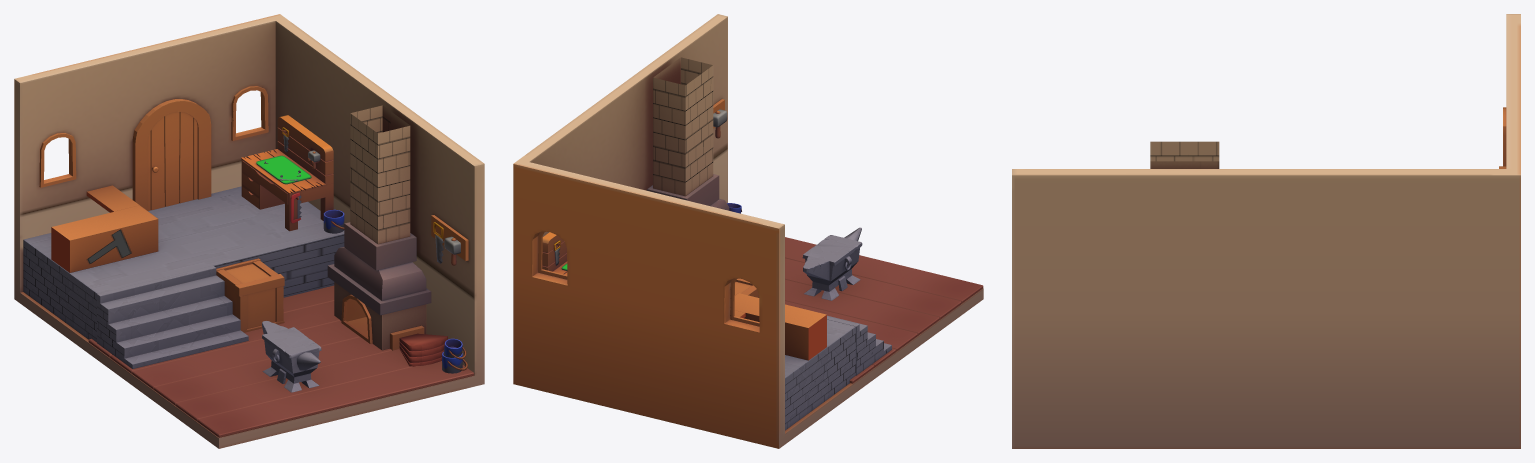
File: Blacksmit_House.fbx
3 renders of one model, left to right at view 1: azimuth 30°, elevation 25°; view 2: azimuth 150°, elevation 25°; view 3: azimuth 270°, elevation 25°, orthographic. The views are drawn at different scales.
Parts seen in each view (by area): view 1: Plane.002; view 2: Plane.002; view 3: Plane.002.
Boxes of the visible parts, left/top/right/bottom form: Plane.002: left=14, top=14, right=484, bottom=448; Plane.002: left=513, top=14, right=983, bottom=448; Plane.002: left=1012, top=14, right=1520, bottom=448.
Bounding box in the file's own units: 416 × 332 × 555.
Materials: 2 (2 with a texture image).
